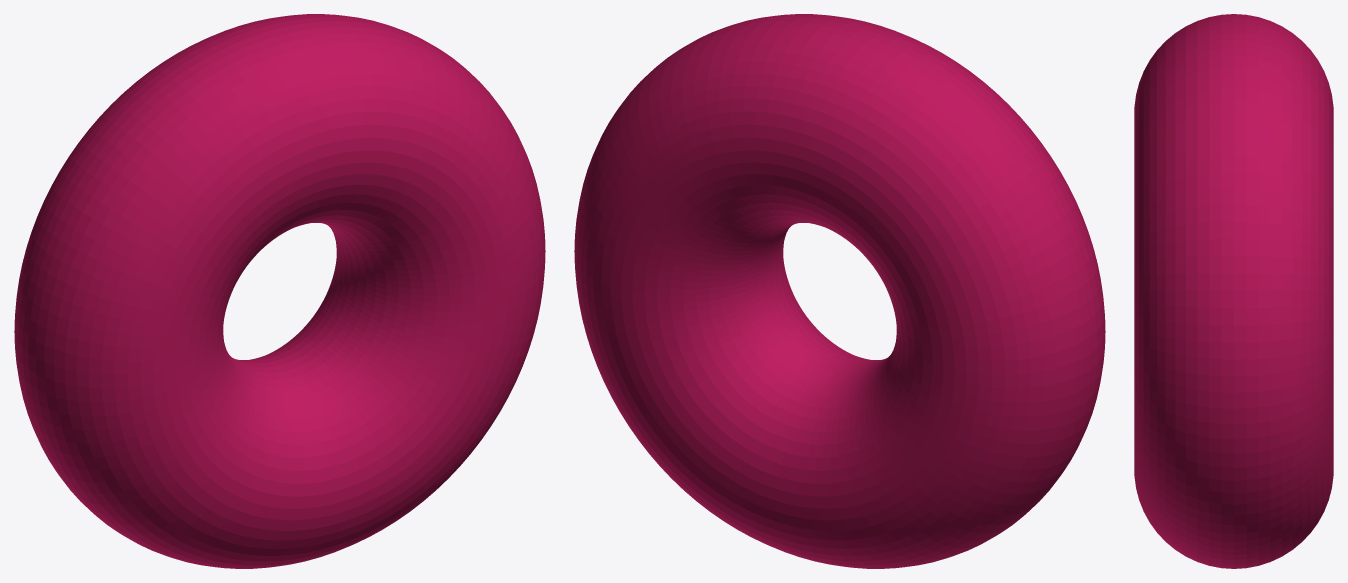
3 views of the same model, side by side, from view 1: azimuth 30°, elevation 25°; view 2: azimuth 150°, elevation 25°; view 3: azimuth 270°, elevation 25° (orthographic). The views are drawn at different scales.
Parts seen in each view (by area): view 1: world; view 2: world; view 3: world.
Boxes of the visible parts, <box> form: world: <box>14,14,545,568</box>; world: <box>574,14,1105,568</box>; world: <box>1134,14,1333,568</box>.
Bounding box in the file's own units: 27.07 × 27.07 × 9.71.
